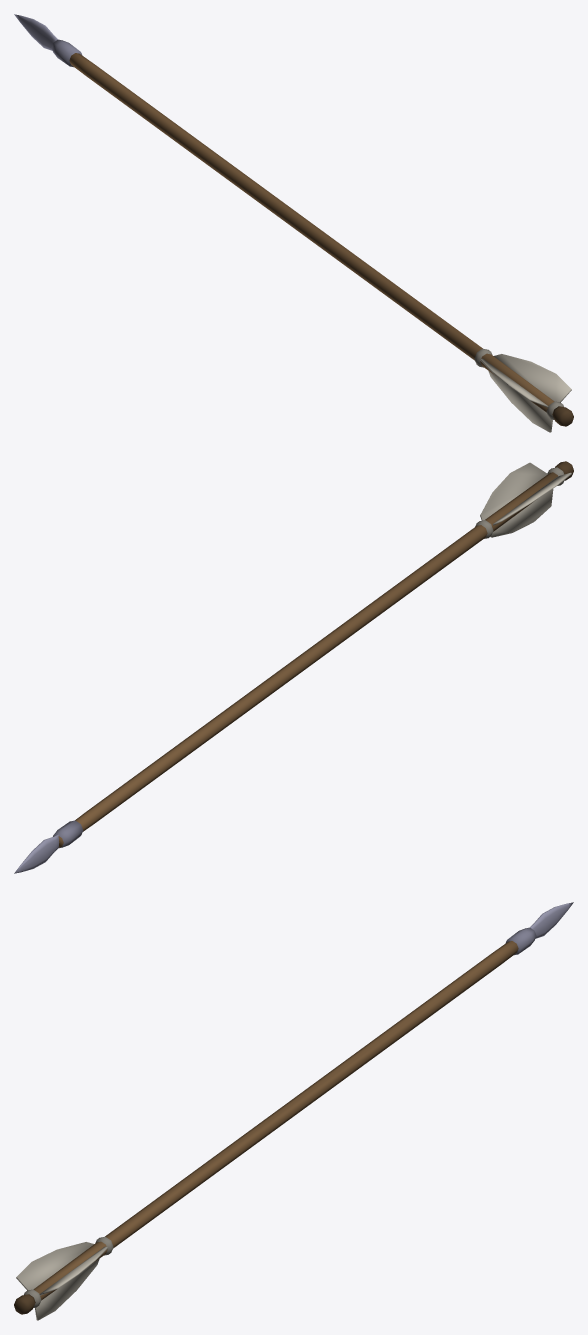
Rendered from arrow_wood.glb.
The picture shows the model from 3 angles, top to bottom: view 1: azimuth 30°, elevation 25°; view 2: azimuth 150°, elevation 25°; view 3: azimuth 330°, elevation 25°; orthographic projection.
Visible parts, largest first — view 1: arrow_wood; view 2: arrow_wood; view 3: arrow_wood.
Part boxes in pixels (box(x1,y1,x2,y2)): arrow_wood: box(14, 14, 573, 432); arrow_wood: box(14, 461, 573, 873); arrow_wood: box(14, 902, 573, 1320).
Size of what is drawn, in the model's own units: 0.0414 by 0.0358 by 0.83.
